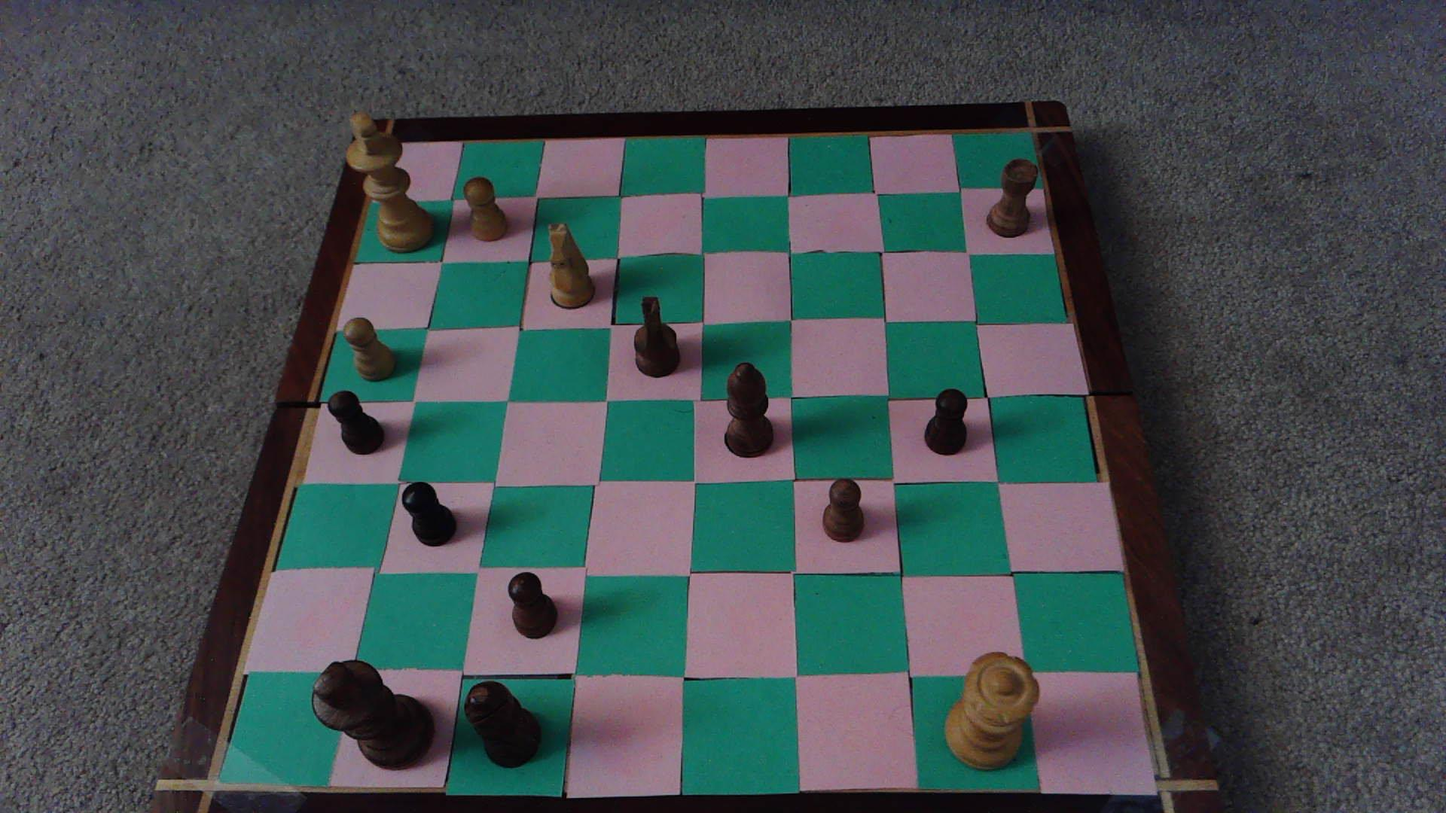dark_piece: (313, 660, 433, 768), (465, 681, 540, 767), (725, 362, 773, 455), (988, 159, 1037, 236), (634, 296, 679, 376), (328, 391, 383, 454), (402, 482, 456, 546), (508, 572, 557, 638), (925, 388, 966, 454), (822, 479, 864, 541)
white_piece: (346, 113, 433, 253), (946, 653, 1039, 769), (549, 223, 593, 306), (344, 317, 395, 380), (464, 176, 506, 240)
